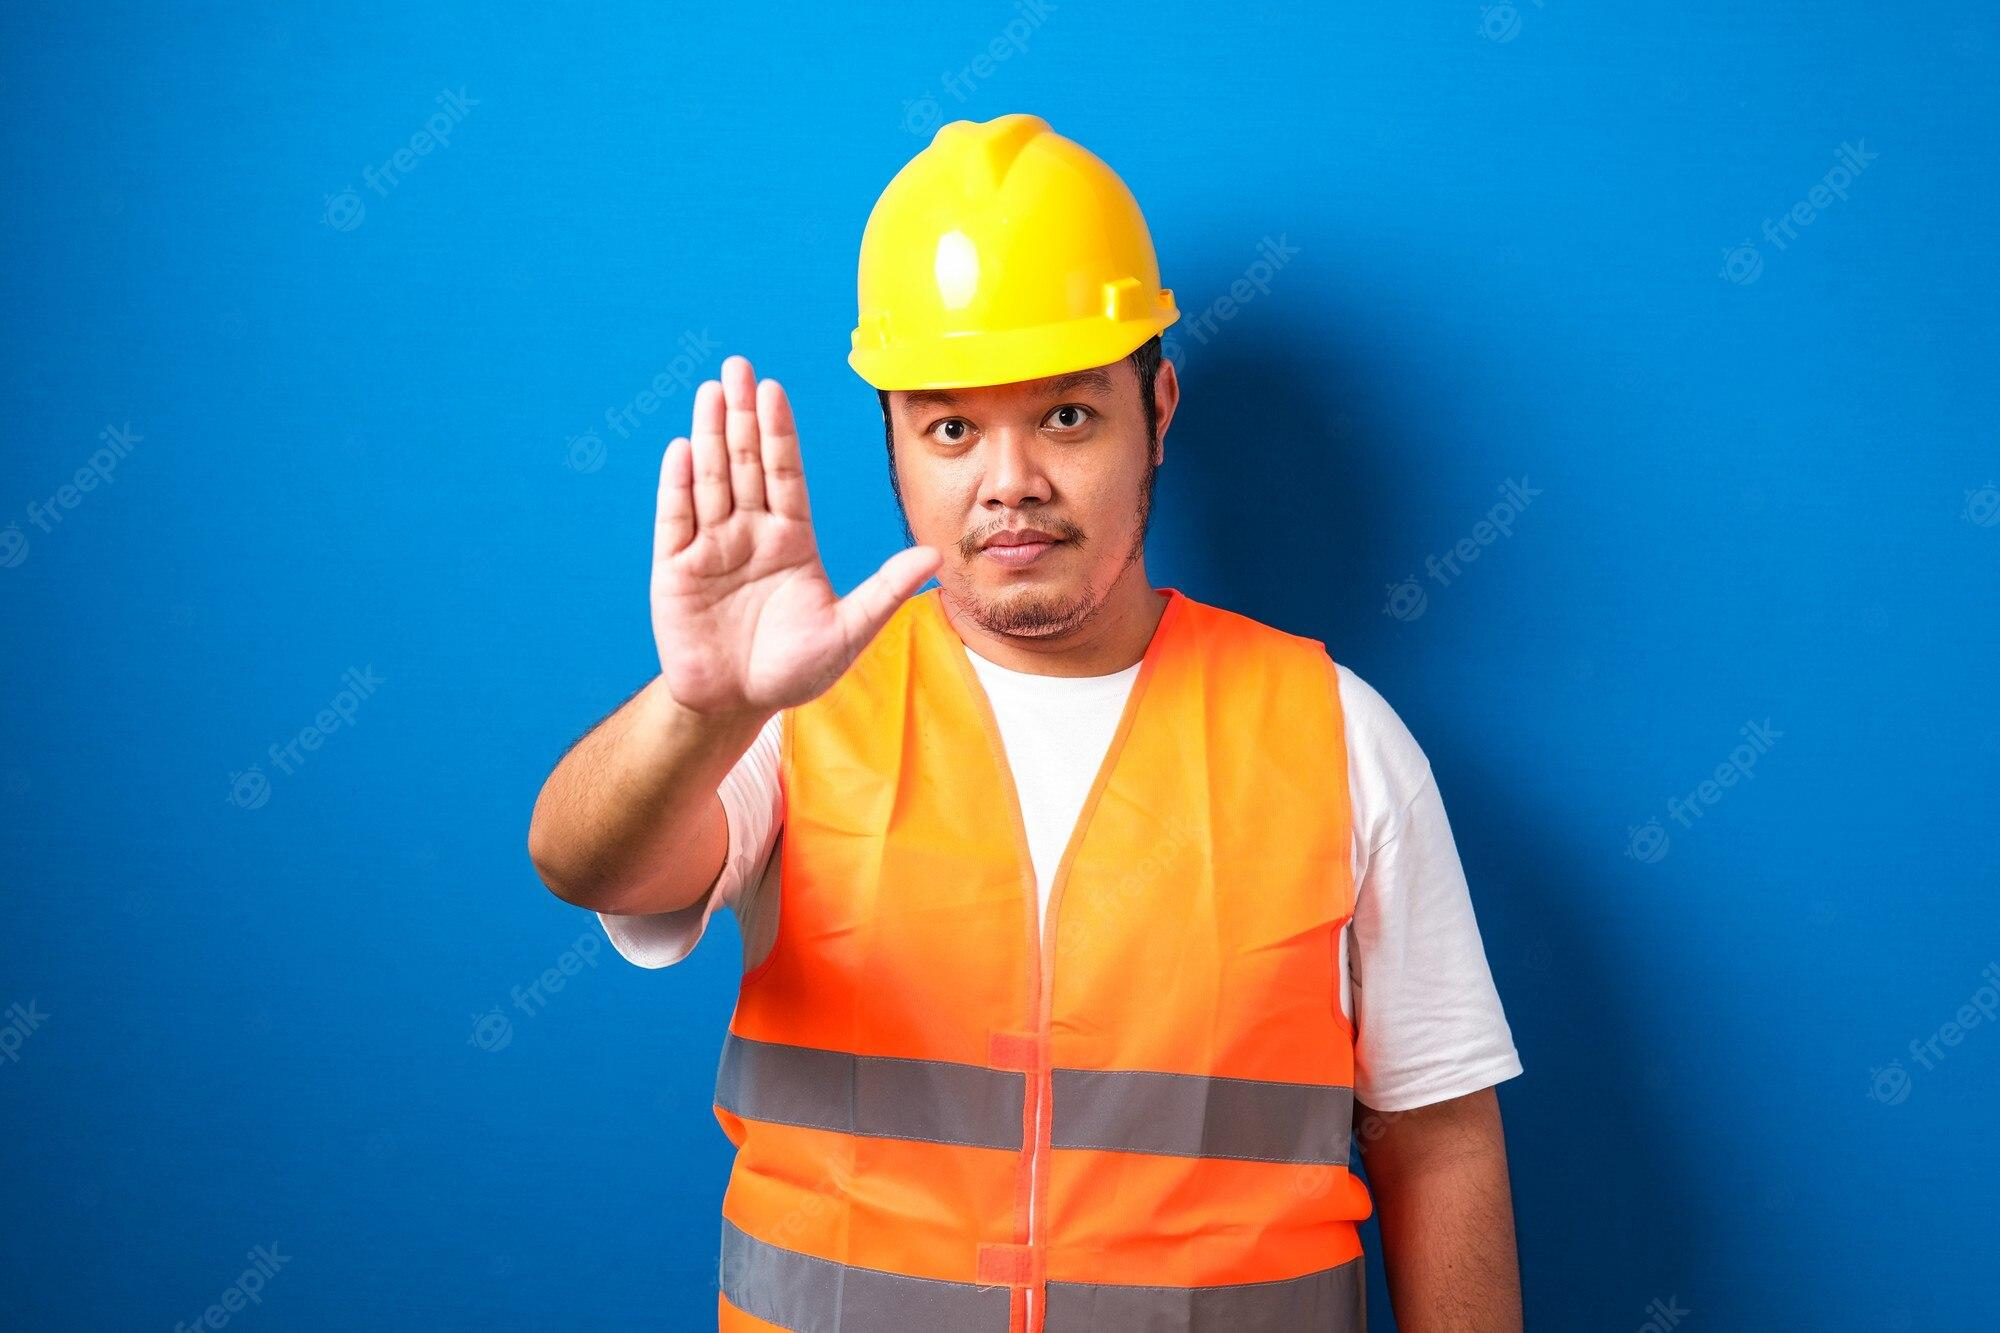hat: (784, 71, 1204, 437)
vest: (697, 524, 1428, 1333)
